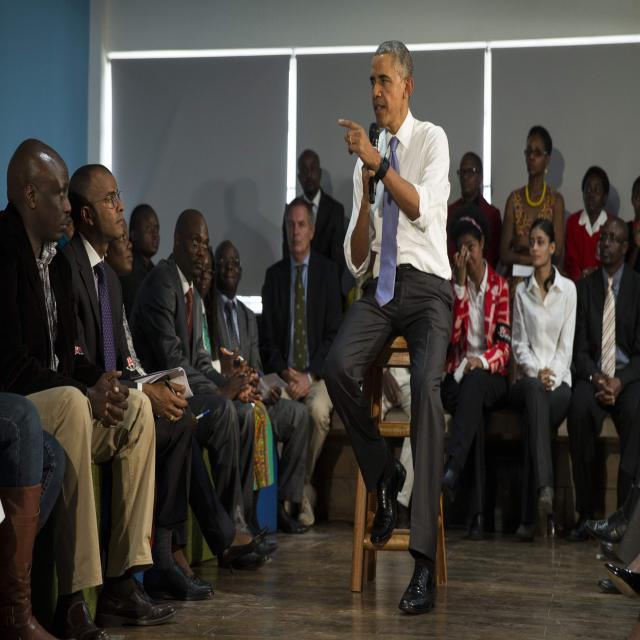body: (0, 137, 177, 640), (322, 38, 453, 616), (52, 165, 214, 598), (126, 204, 280, 568), (128, 205, 272, 576), (254, 193, 350, 531), (214, 240, 310, 536), (157, 235, 250, 534), (350, 228, 431, 536), (565, 213, 640, 536), (510, 214, 580, 544), (0, 392, 64, 639), (441, 215, 511, 427), (499, 125, 565, 308), (282, 148, 346, 280), (445, 150, 503, 276), (585, 474, 640, 593), (563, 165, 613, 283), (116, 202, 162, 326), (626, 170, 640, 247)
